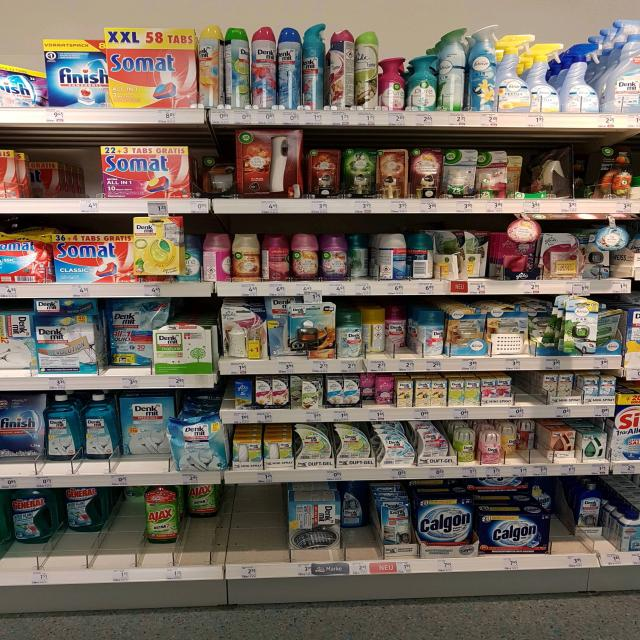void: (224, 483, 281, 563), (62, 130, 96, 198), (109, 486, 138, 558)
